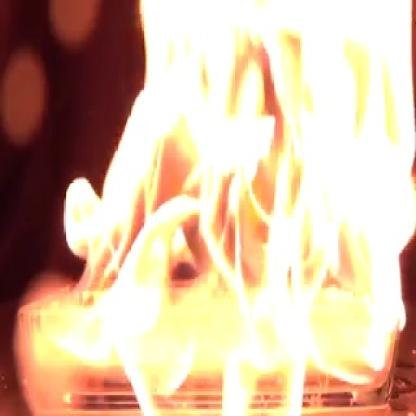fire: (51, 0, 416, 416)
